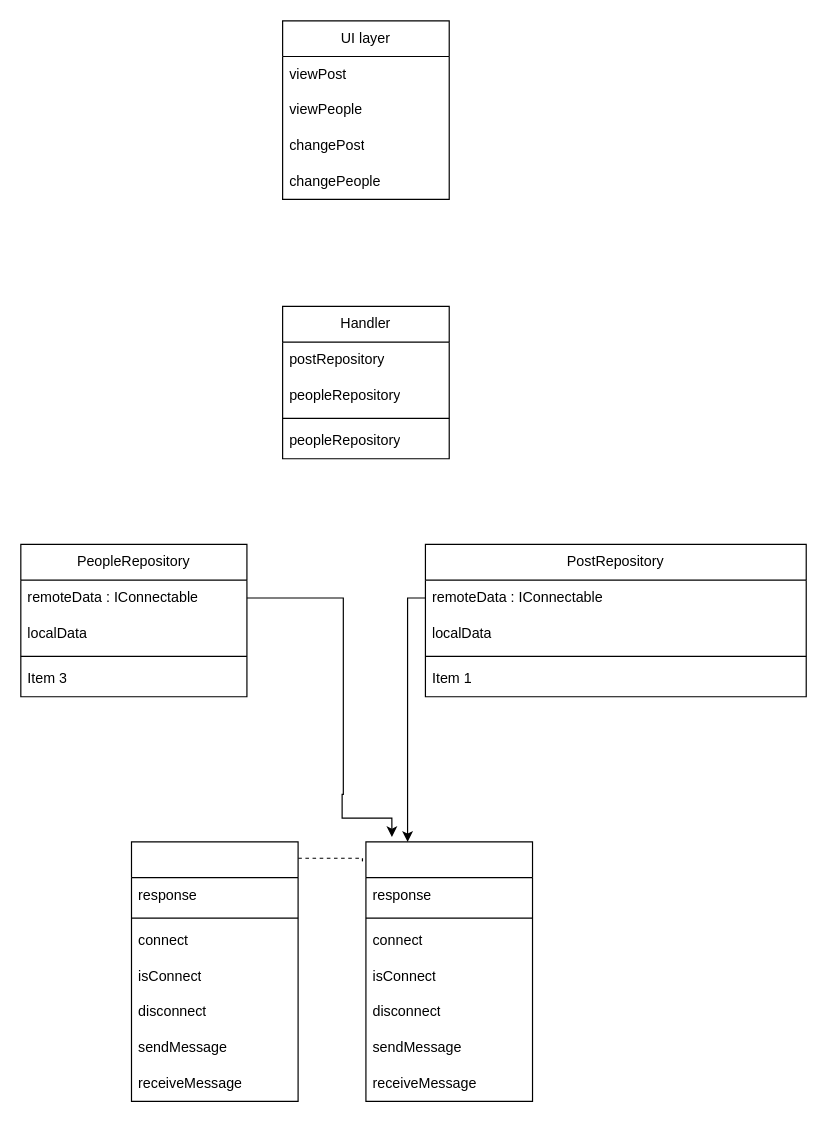
This 827x1122 diagram has some shape labels left out. Each missing label, with the box of its shape:
IConnectable: (365, 841, 533, 1101)
TCPsocket: (130, 841, 298, 1101)
